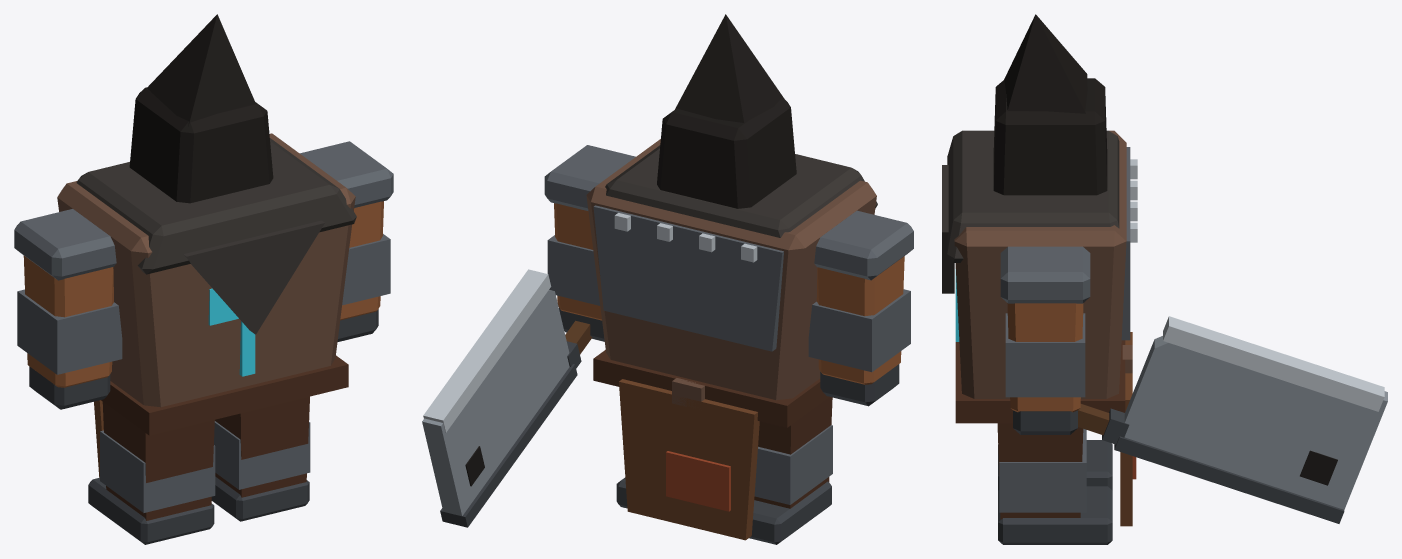
File: CH_MurderMachine.fbx
3 renders of one model, left to right at view 1: azimuth 30°, elevation 25°; view 2: azimuth 150°, elevation 25°; view 3: azimuth 270°, elevation 25°, orthographic. The views are drawn at different scales.
Parts seen in each view (by area): view 1: Body, Mantle, Head, MantleTail, Belt, HoodPoint, VambraceL, LegL, PauldronL, ArmL, GreaveL, LegR (+10 smaller); view 2: Body, ChestPlate, Apron, Blade, Head, Mantle, HoodPoint, VambraceL, Edge, PauldronL, ArmL, Belt (+11 smaller); view 3: Blade, Body, Head, Mantle, Edge, HoodPoint, PauldronR, VambraceR, GreaveR, BootR, ArmR, Spine (+10 smaller).
Boxes of the visible parts, <box> form: Body: <box>57,133,355,407</box>; Mantle: <box>76,138,356,274</box>; Head: <box>129,87,273,203</box>; MantleTail: <box>183,220,324,334</box>; Belt: <box>101,355,348,435</box>; HoodPoint: <box>147,14,255,126</box>; VambraceL: <box>17,289,122,374</box>; LegL: <box>102,402,214,520</box>; PauldronL: <box>14,209,116,280</box>; ArmL: <box>23,255,113,387</box>; GreaveL: <box>100,430,215,512</box>; LegR: <box>215,396,309,497</box>; Body: <box>586,139,876,400</box>; ChestPlate: <box>593,205,783,351</box>; Apron: <box>619,379,759,540</box>; Blade: <box>422,290,569,516</box>; Head: <box>657,97,796,208</box>; Mantle: <box>605,145,877,237</box>; HoodPoint: <box>675,14,785,122</box>; VambraceL: <box>808,289,910,372</box>; Edge: <box>423,269,551,432</box>; PauldronL: <box>814,210,913,280</box>; ArmL: <box>816,256,904,384</box>; Belt: <box>593,350,829,427</box>; Blade: <box>1124,336,1387,509</box>; Body: <box>954,130,1126,398</box>; Head: <box>993,78,1107,195</box>; Mantle: <box>947,130,1119,262</box>; Edge: <box>1163,316,1384,411</box>; HoodPoint: <box>1004,14,1087,113</box>; PauldronR: <box>1000,246,1090,303</box>; VambraceR: <box>1005,313,1085,397</box>; GreaveR: <box>999,429,1086,512</box>; BootR: <box>998,486,1112,544</box>; ArmR: <box>1007,303,1083,412</box>; Spine: <box>1114,436,1344,523</box>.
Size of the model in its own units: 1.58 by 1.79 by 2.2.
